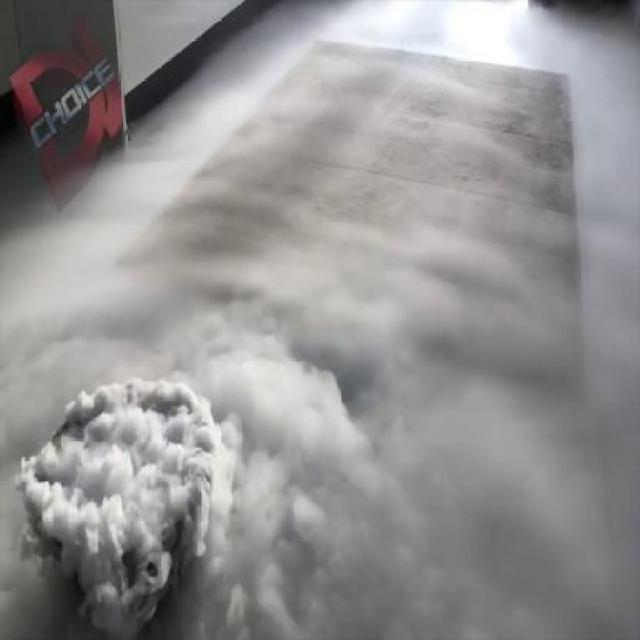smoke: (3, 243, 471, 640)
